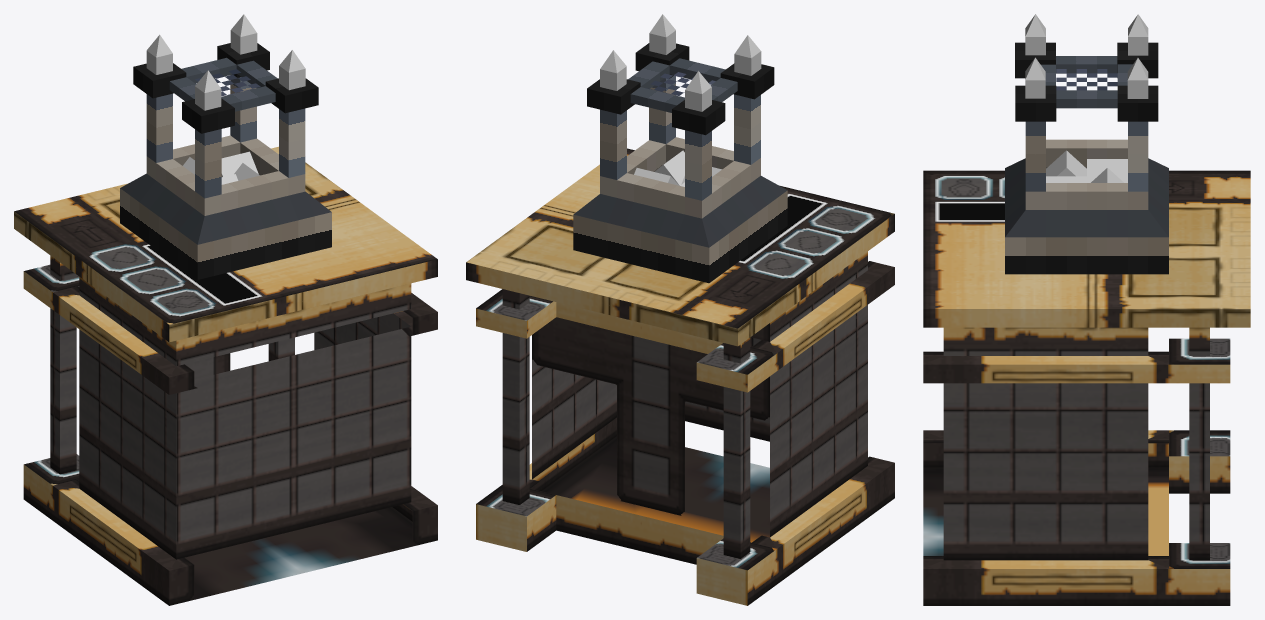
File: station_fumefilter_inventory.obj
3 views of the same model, side by side, from view 1: azimuth 30°, elevation 25°; view 2: azimuth 150°, elevation 25°; view 3: azimuth 270°, elevation 25° (orthographic). The views are drawn at different scales.
Parts seen in each view (by area): view 1: DESK_SINGLE_MAIN.006, FUMEFILTER_Cube.005, COAL_Cube.006; view 2: DESK_SINGLE_MAIN.006, FUMEFILTER_Cube.005, COAL_Cube.006; view 3: DESK_SINGLE_MAIN.006, FUMEFILTER_Cube.005, COAL_Cube.006.
Part boxes in pixels (x1,y1,x2,y2): DESK_SINGLE_MAIN.006: (14, 146, 437, 605); FUMEFILTER_Cube.005: (120, 14, 331, 279); COAL_Cube.006: (183, 151, 259, 184); DESK_SINGLE_MAIN.006: (466, 148, 894, 605); FUMEFILTER_Cube.005: (573, 14, 787, 283); COAL_Cube.006: (634, 150, 721, 186); DESK_SINGLE_MAIN.006: (923, 170, 1250, 605); FUMEFILTER_Cube.005: (1005, 14, 1168, 274); COAL_Cube.006: (1046, 150, 1127, 182).
Bounding box in the file's own units: 1 × 1.69 × 1.
